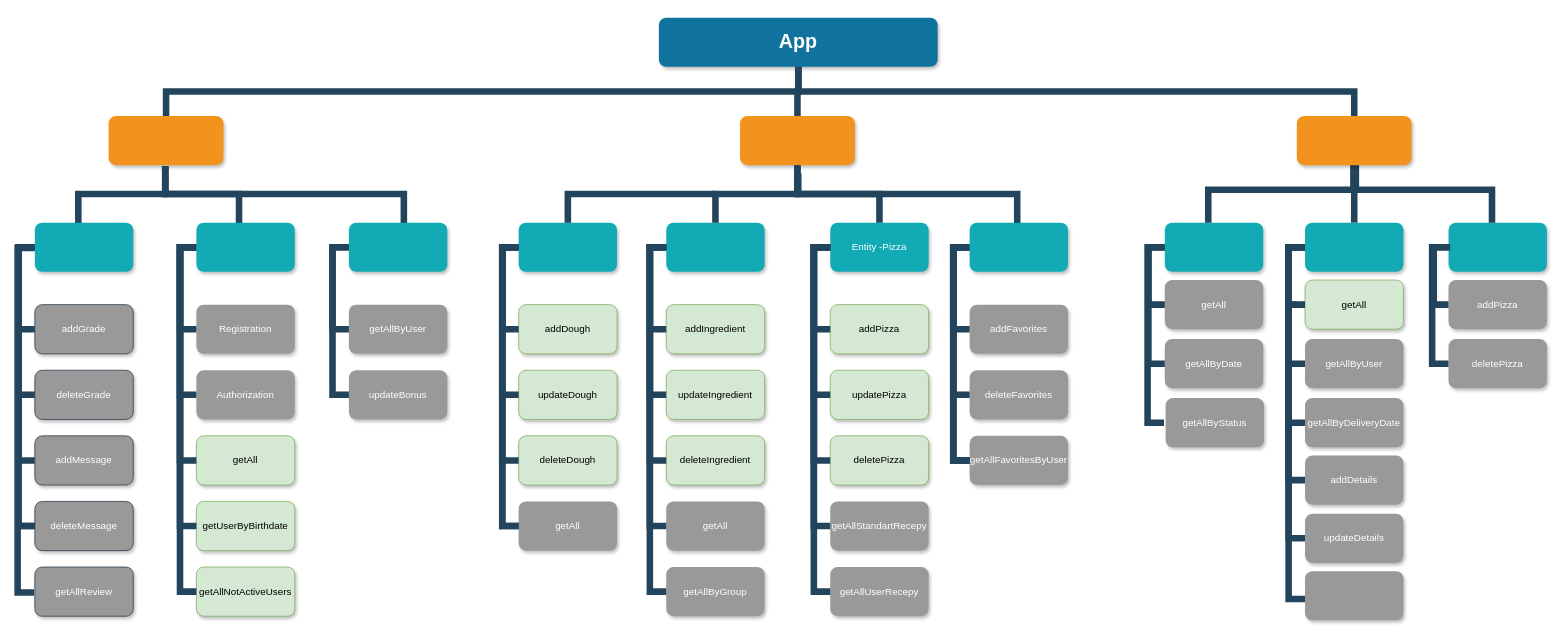
Some shapes in this 1565 by 640 pixel diagram are drawn without their labels. The centre of each missing label's shape, as x and y in pixels:
Basket: the point at 1498,248
deleteDetails: the point at 1354,596
Entity -Bonus: the point at 398,248
Entity -Dough: the point at 568,248
Entity -Favorites: the point at 1019,248
Entity -Ingredient: the point at 716,248
Entity -Review: the point at 84,248
Entity -UserApp: the point at 246,248
Order: the point at 1214,248
OrderDetails: the point at 1354,248
OrderService: the point at 1354,141
ProductService: the point at 797,141
UserService: the point at 166,141
